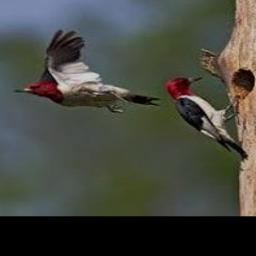Woodpecker: (13, 29, 161, 113), (164, 76, 248, 160)
